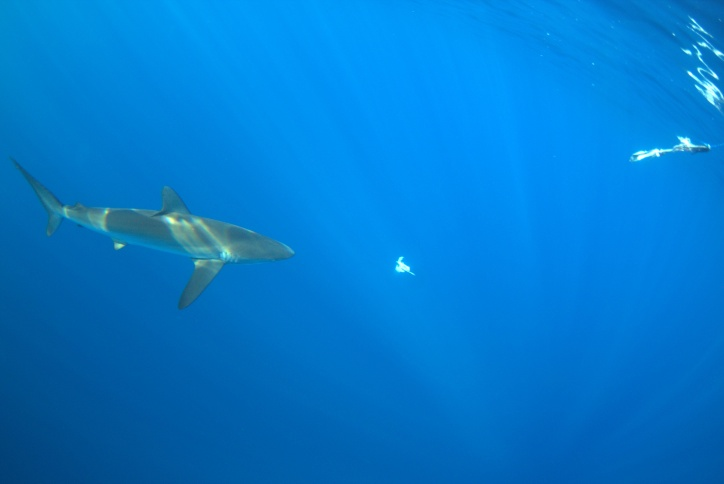Sedoso: (2, 146, 302, 320)
